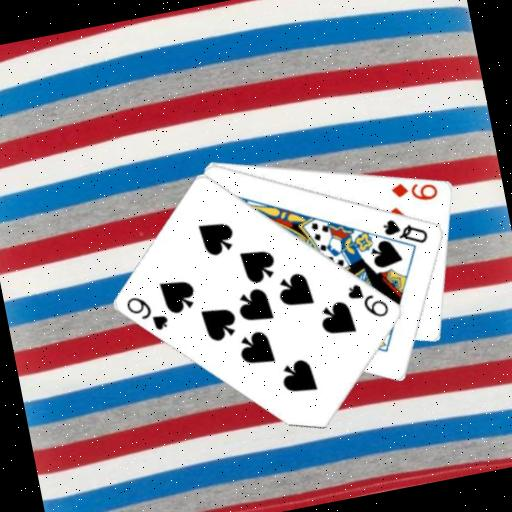9D: (388, 173, 442, 209)
9S: (122, 288, 173, 338), (343, 276, 393, 325)
QS: (379, 210, 432, 252)
